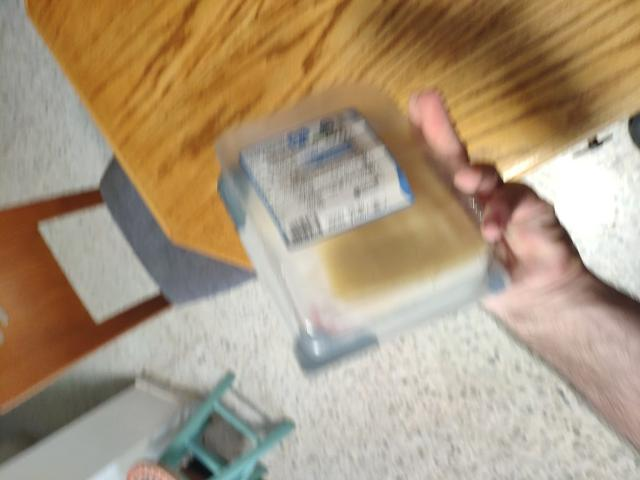cheese: (216, 100, 436, 372)
